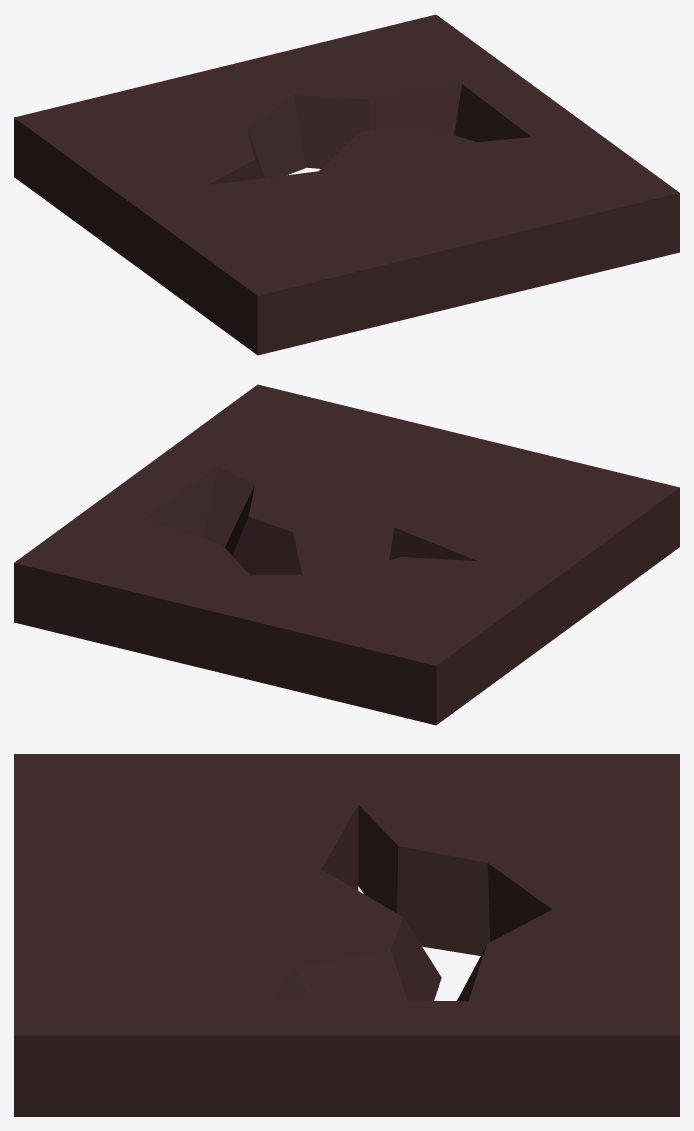
File: T_SolDetruit_01.fbx
3 views of the same model, one above another, from view 1: azimuth 30°, elevation 25°; view 2: azimuth 150°, elevation 25°; view 3: azimuth 270°, elevation 25° (orthographic). The views are drawn at different scales.
Visible parts, largest first — view 1: T_SolDetruit_01; view 2: T_SolDetruit_01; view 3: T_SolDetruit_01.
Part boxes in pixels (box(x1,y1,x2,y2)): T_SolDetruit_01: box(14, 14, 679, 355); T_SolDetruit_01: box(14, 384, 679, 725); T_SolDetruit_01: box(14, 754, 679, 1116).
Bounding box in the file's own units: 100 × 13.48 × 100.
